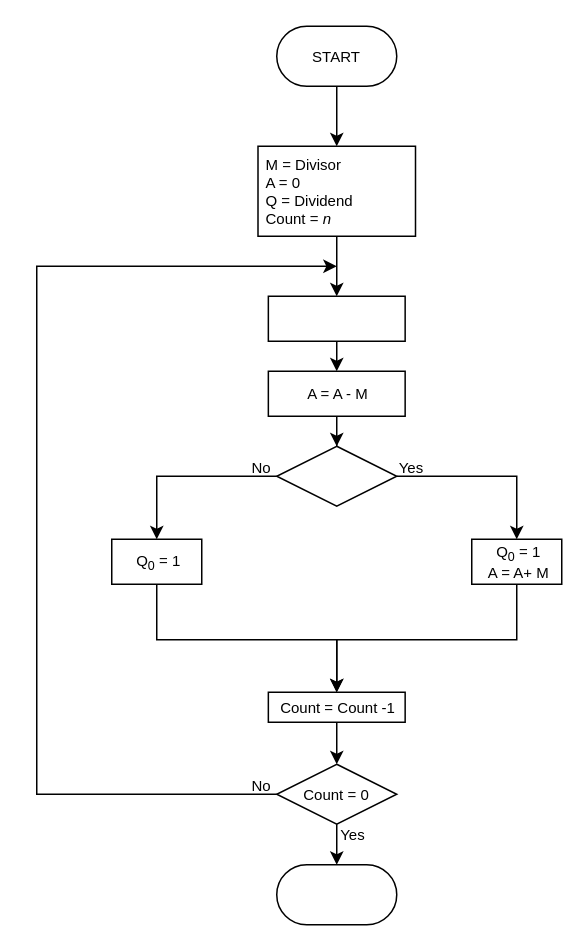
Image size: 588x951. Some labels were removed from this diagram. The shapes that lost their labels are listed below. From the top down, each one's centre as x and y in pixels, then its label:
the point at 336,318: Shift left A,Q
the point at 336,475: A < 0
the point at 336,894: END
